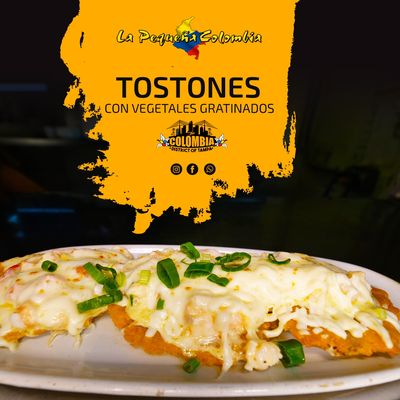sandwich: (1, 242, 400, 378)
